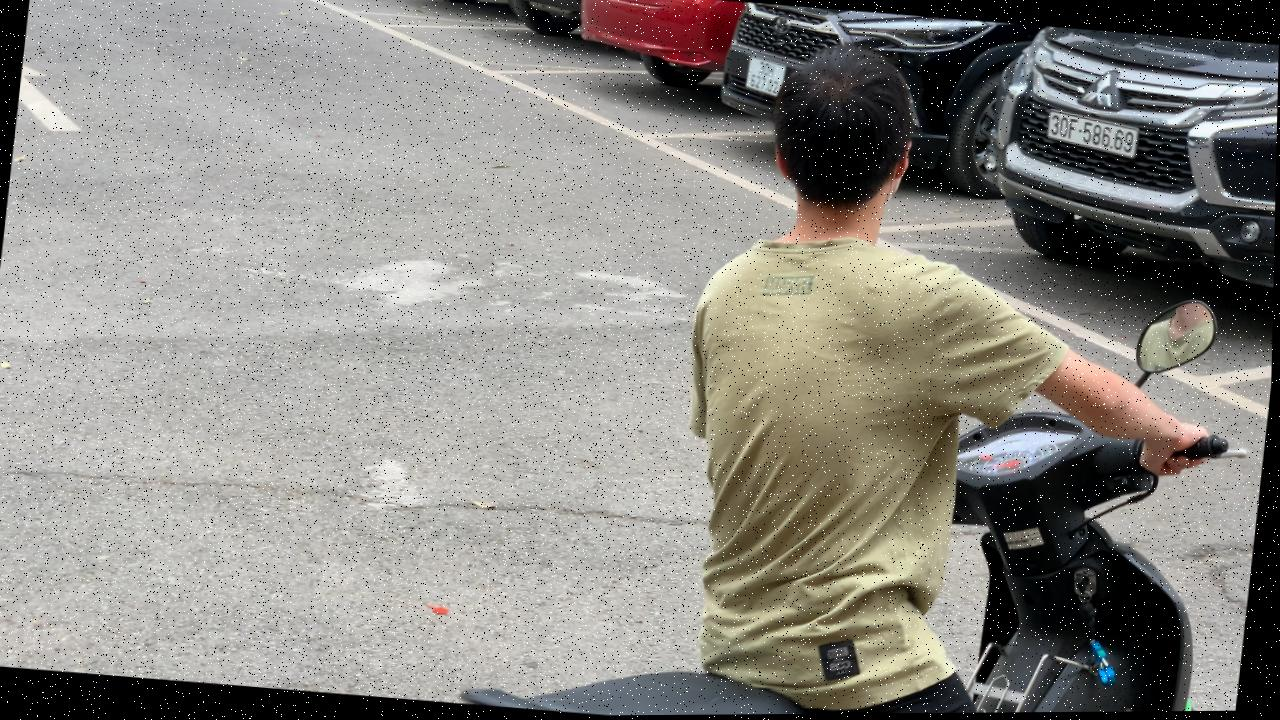motorcyclist: (457, 0, 1280, 717)
